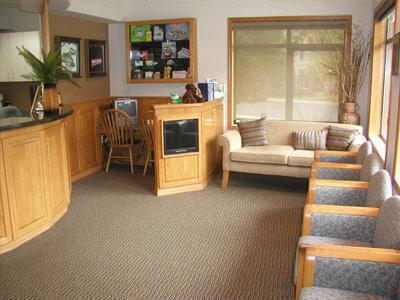Ventana: (232, 23, 347, 122), (374, 16, 399, 186)
